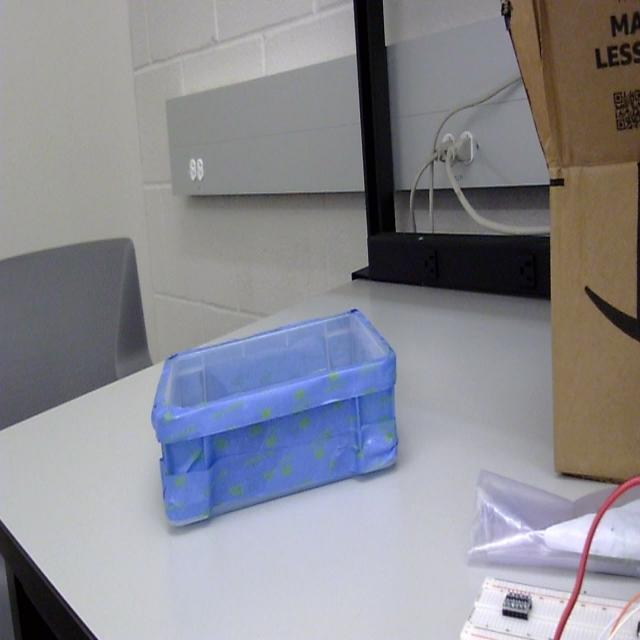bucket: (150, 309, 399, 535)
